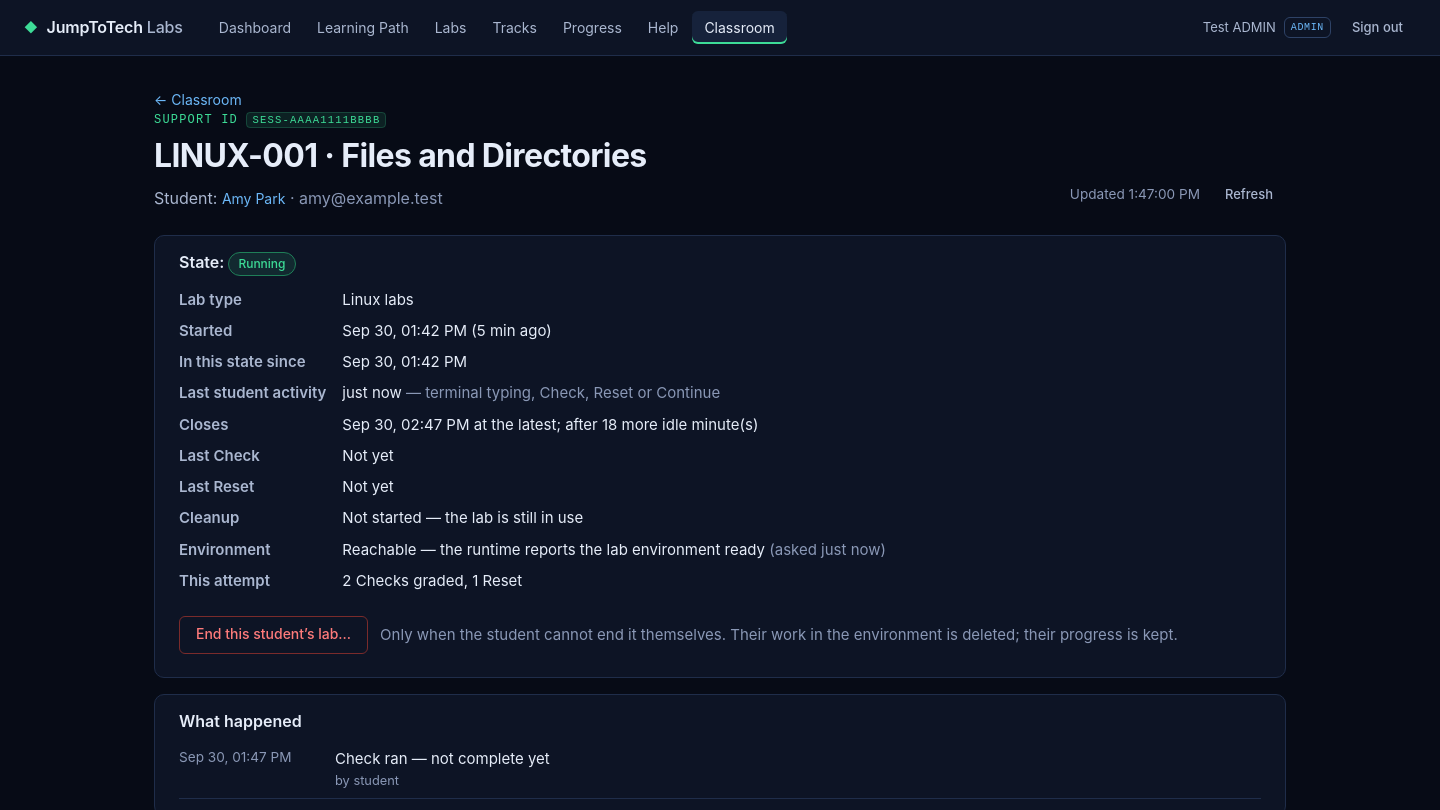
Test case: one lab › an End the server refuses is shown, and the page re-reads the truth
Click the button "End this student’s lab…". click: (274, 635)
box: 179,616 -> 368,654
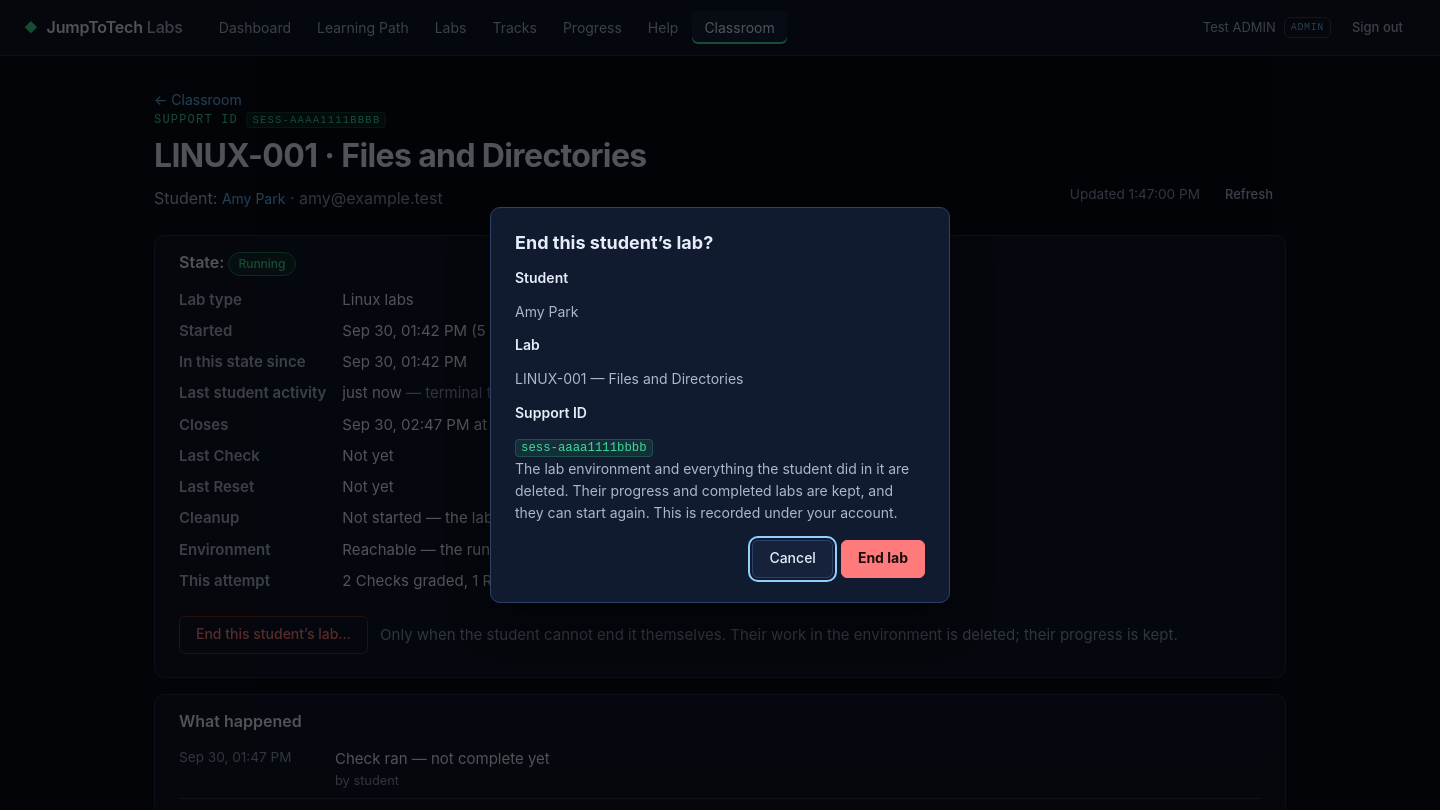
Click the button "End lab". click: (883, 558)
box: 841,540 -> 925,578
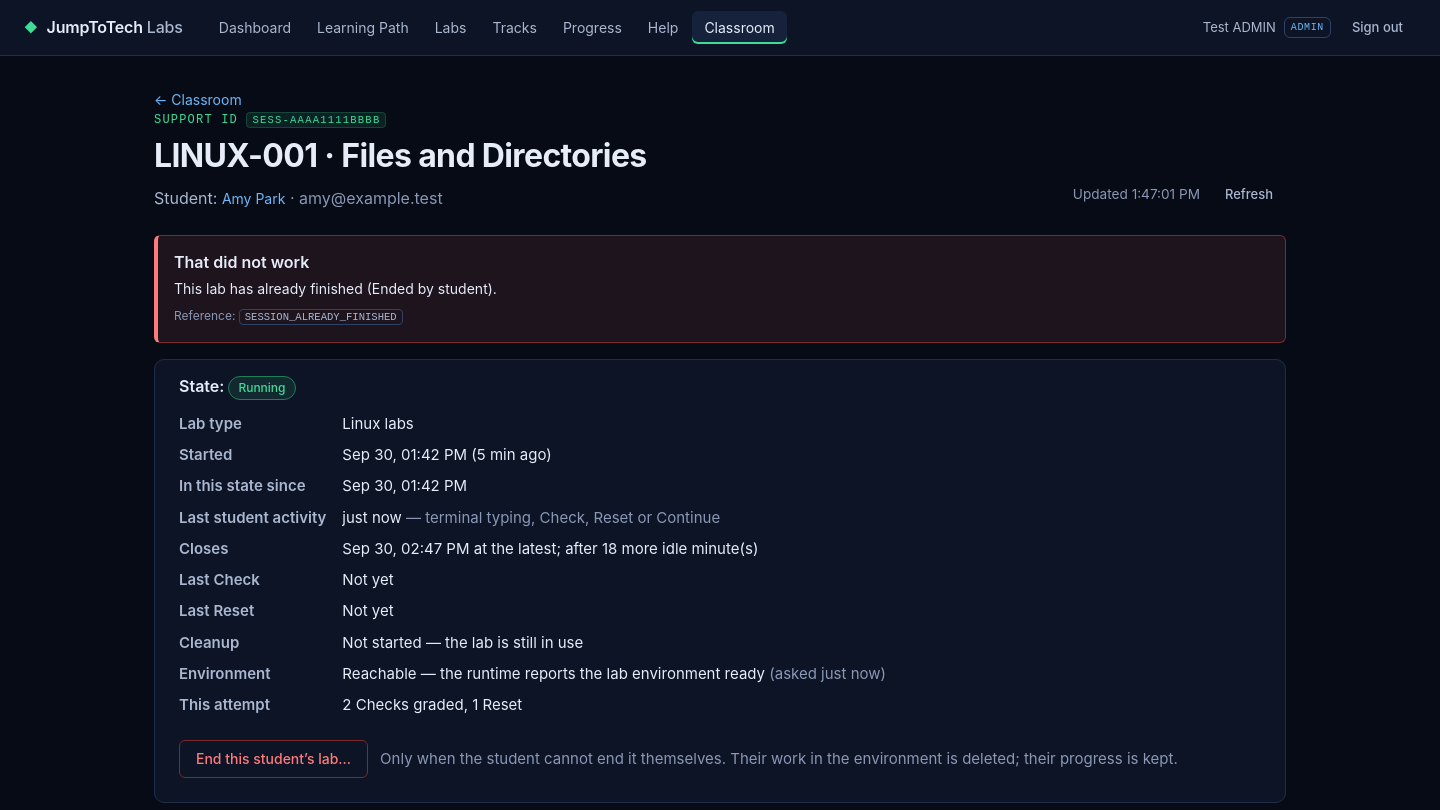
Expected: the text "This lab has already finished (Ended by student)." is shown, 174,280 -> 497,297
